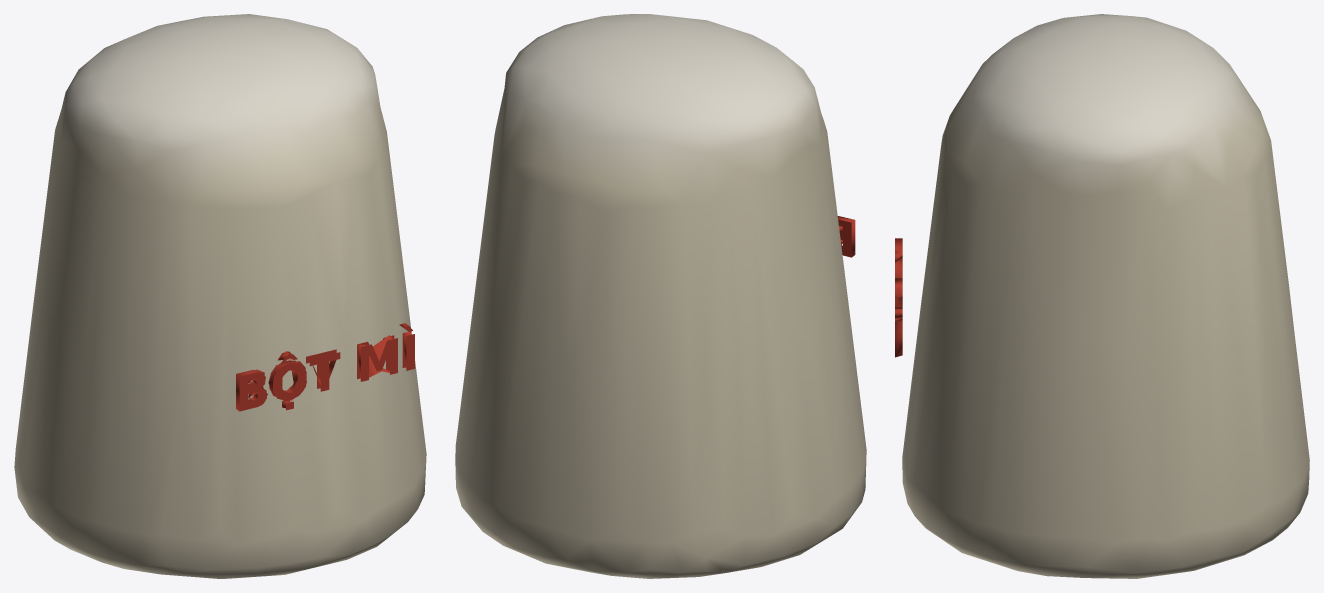
File: bao_bot.glb
3 views of the same model, side by side, from view 1: azimuth 30°, elevation 25°; view 2: azimuth 150°, elevation 25°; view 3: azimuth 270°, elevation 25° (orthographic).
Parts seen in each view (by area): view 1: bao_bot; view 2: bao_bot; view 3: bao_bot.
Part boxes in pixels (x1,y1,x2,y2): bao_bot: (14, 14, 426, 578); bao_bot: (455, 14, 866, 578); bao_bot: (895, 14, 1309, 578).
Size of the model in its own units: 0.2199 by 0.2697 by 0.224.
